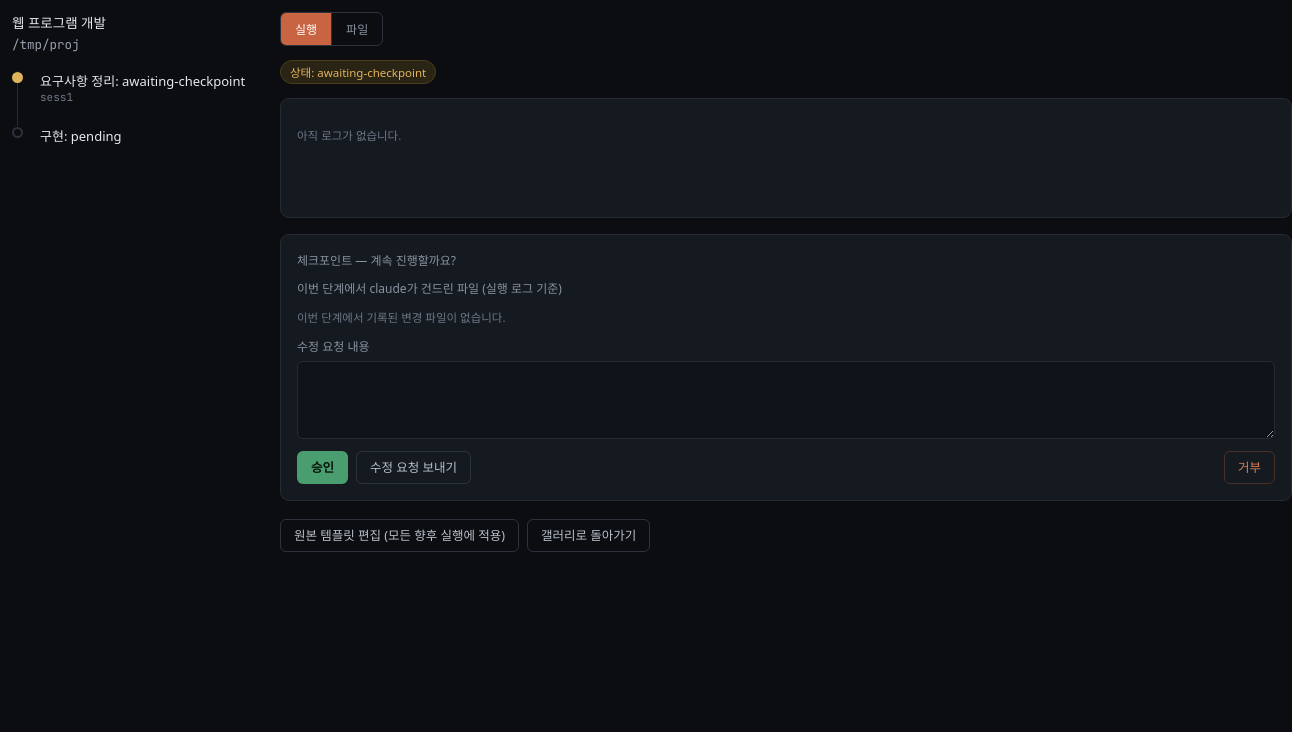
Test: PipelineRun › keeps the left column visible on the 파일 tab
The image size is (1292, 732).
Click the tab "파일" at (357,29), box [332,13,382,45]
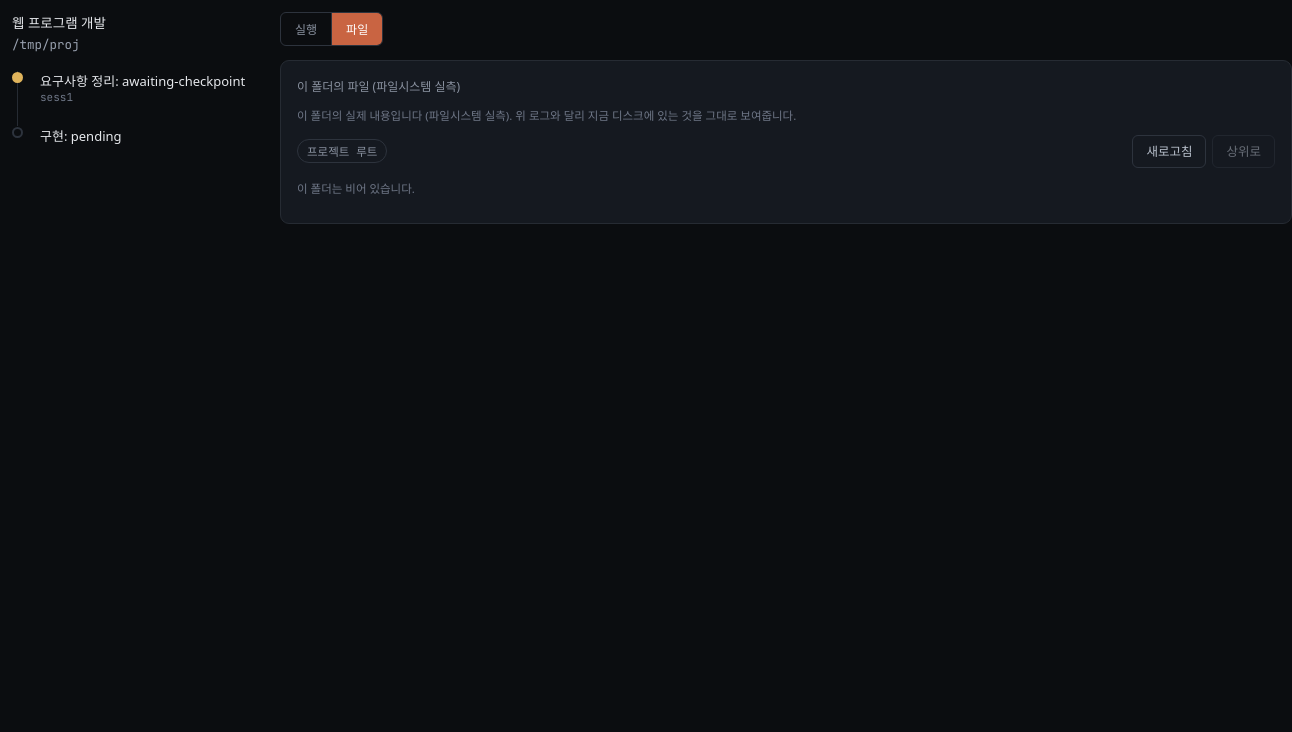
Expected: the heading "웹 프로그램 개발" is shown, [12,14,106,32]
Now the button "승인" is gone
